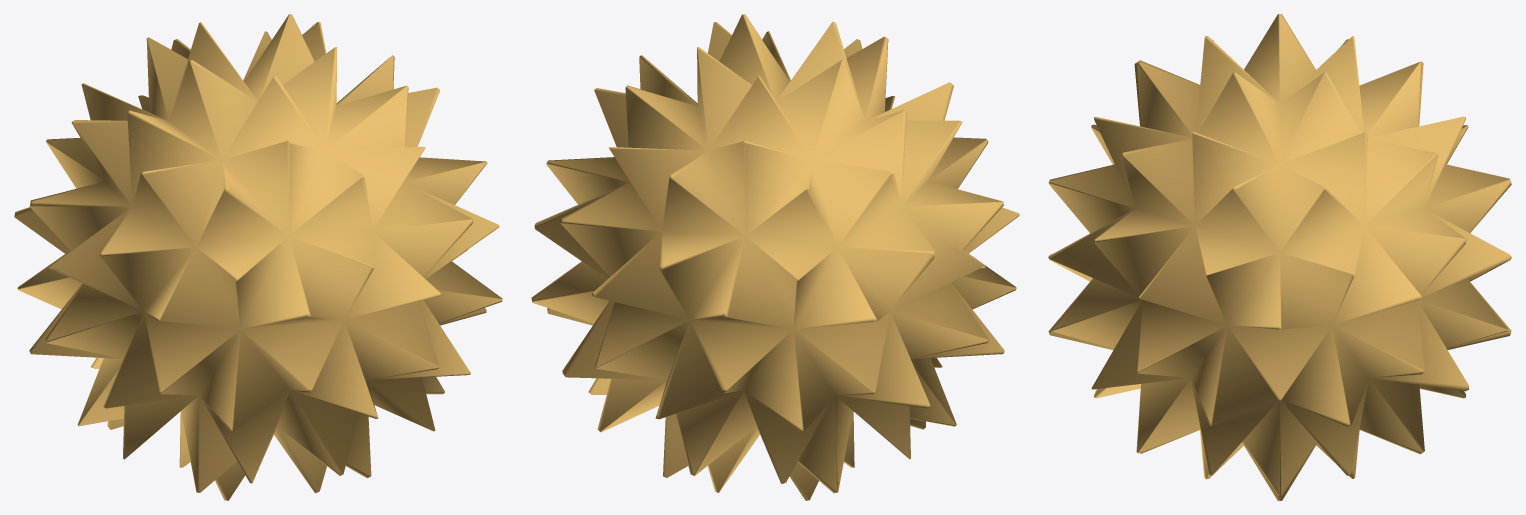
The model's file is hedgehog.fbx.
3 views of the same model, side by side, from view 1: azimuth 30°, elevation 25°; view 2: azimuth 150°, elevation 25°; view 3: azimuth 270°, elevation 25° (orthographic).
Visible parts, largest first — view 1: Icosphere; view 2: Icosphere; view 3: Icosphere.
Part boxes in pixels (x1,y1,x2,y2): Icosphere: (14,14,502,500); Icosphere: (531,14,1019,500); Icosphere: (1048,14,1511,500).
Size of the model in its own units: 286 by 275 by 273.
